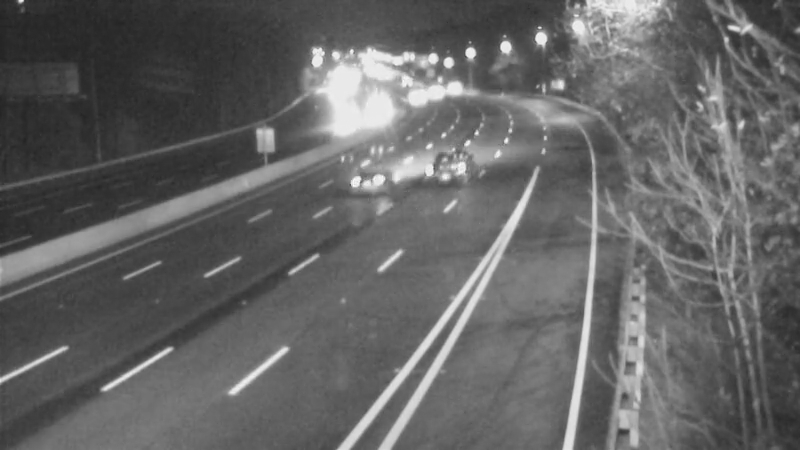vehicle: (394, 126, 474, 206), (322, 139, 402, 219), (409, 64, 459, 114), (396, 70, 446, 120), (319, 101, 369, 151), (352, 77, 402, 127)
